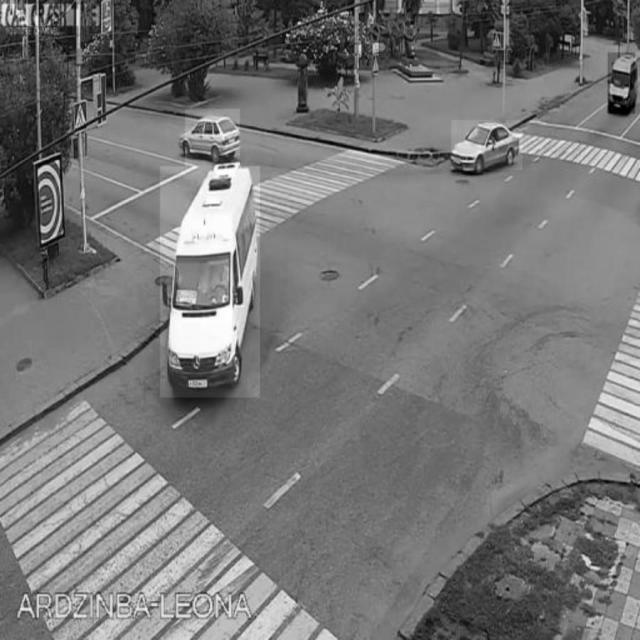vehicle: (160, 166, 261, 397), (452, 120, 523, 170), (185, 109, 240, 166), (607, 53, 635, 114)
